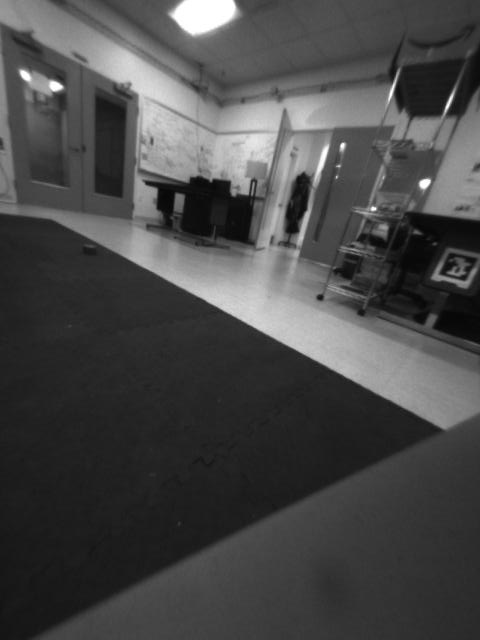dogtoy: (70, 236, 103, 257)
